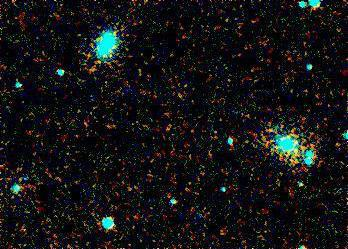star: (322, 126, 348, 156)
